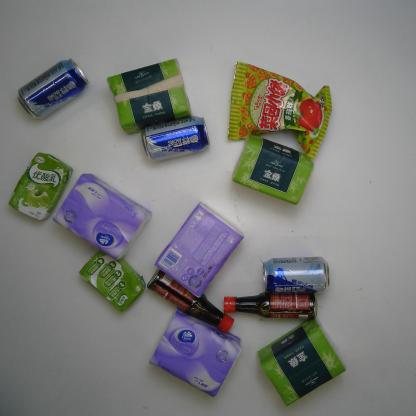Alcohol: (17, 56, 90, 122), (140, 115, 212, 164), (262, 255, 331, 294)
Milk: (78, 250, 146, 316), (9, 152, 72, 222)
Puffed Food: (224, 58, 334, 161)
Seasoner: (145, 268, 235, 333), (224, 293, 318, 322)
Tissue: (148, 309, 243, 400), (55, 176, 160, 258), (154, 203, 242, 300), (255, 323, 350, 406), (109, 57, 194, 134), (230, 132, 316, 207)
